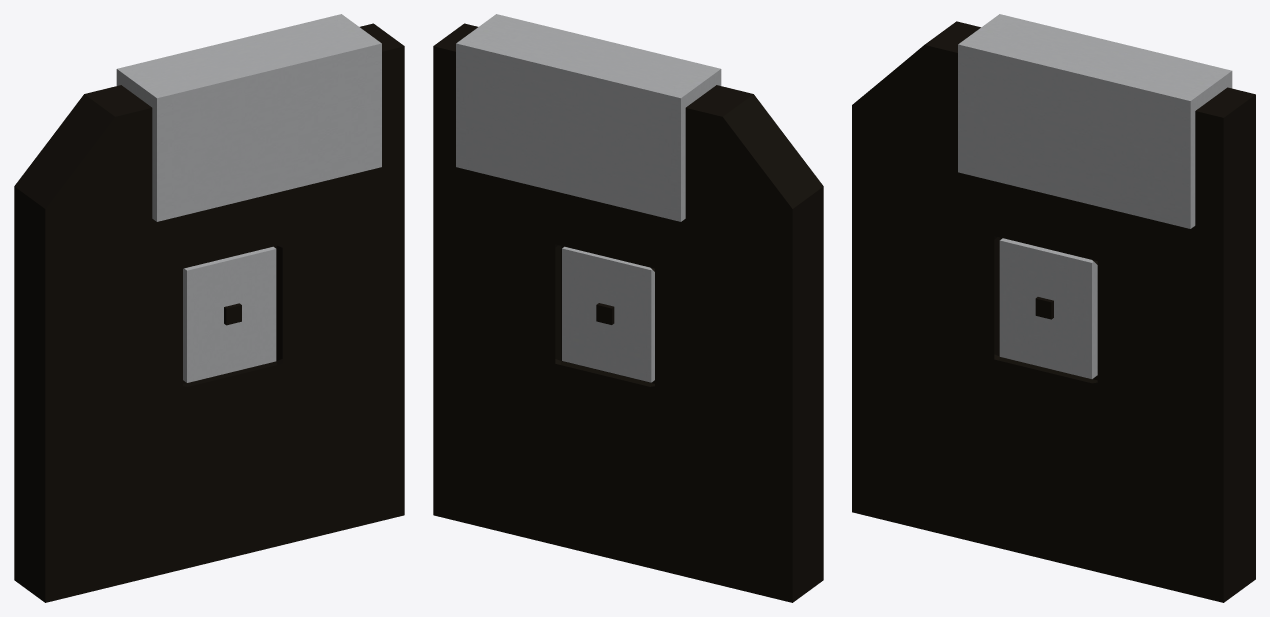
Rendered from FloppyDIsk.fbx.
The picture shows the model from 3 angles, left to right: view 1: azimuth 30°, elevation 25°; view 2: azimuth 150°, elevation 25°; view 3: azimuth 330°, elevation 25°; orthographic projection. The views are drawn at different scales.
Visible parts, largest first — view 1: Cube.001, Cube.004, Cube.002; view 2: Cube.001, Cube.004, Cube.002; view 3: Cube.001, Cube.004, Cube.002.
Part boxes in pixels (x1,y1,x2,y2): Cube.001: (14,23,404,602); Cube.004: (116,14,381,221); Cube.002: (183,246,276,382); Cube.001: (433,23,823,602); Cube.004: (456,14,721,221); Cube.002: (562,246,654,382); Cube.001: (852,21,1255,602); Cube.004: (958,14,1232,228); Cube.002: (999,238,1097,378).
Bounding box in the file's own units: 80 × 102 × 15.51.
